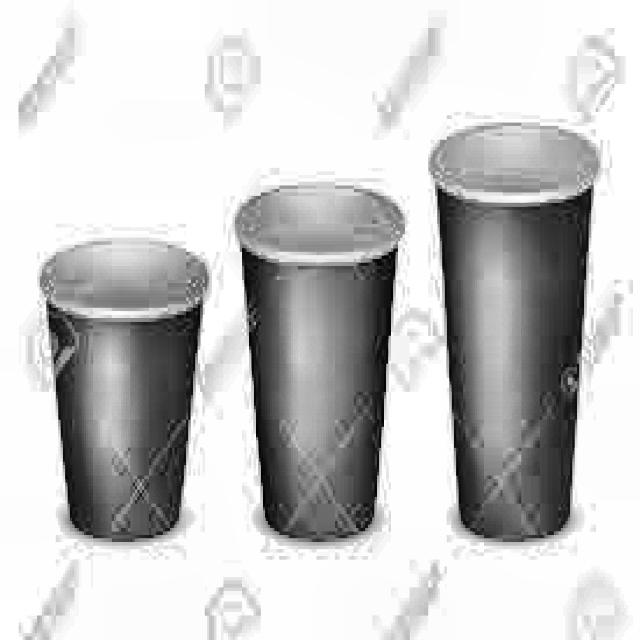Cup: (428, 106, 604, 552), (232, 169, 408, 545), (39, 227, 206, 553)
